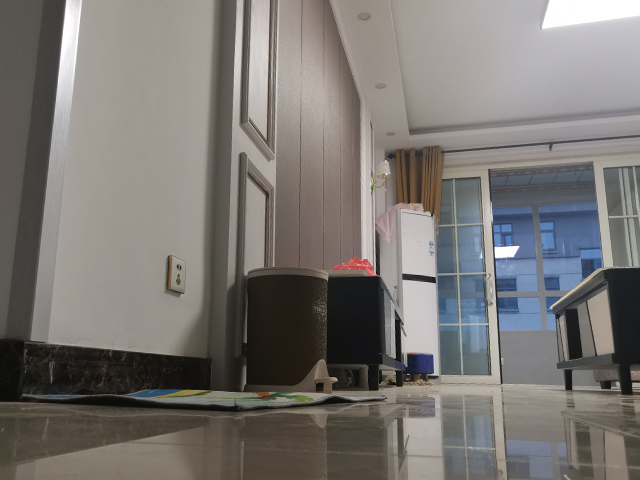cabinet: (325, 268, 410, 392)
carpet: (21, 387, 392, 413)
stool: (401, 351, 435, 382)
table: (546, 266, 640, 396)
trashcan: (244, 264, 338, 396)
